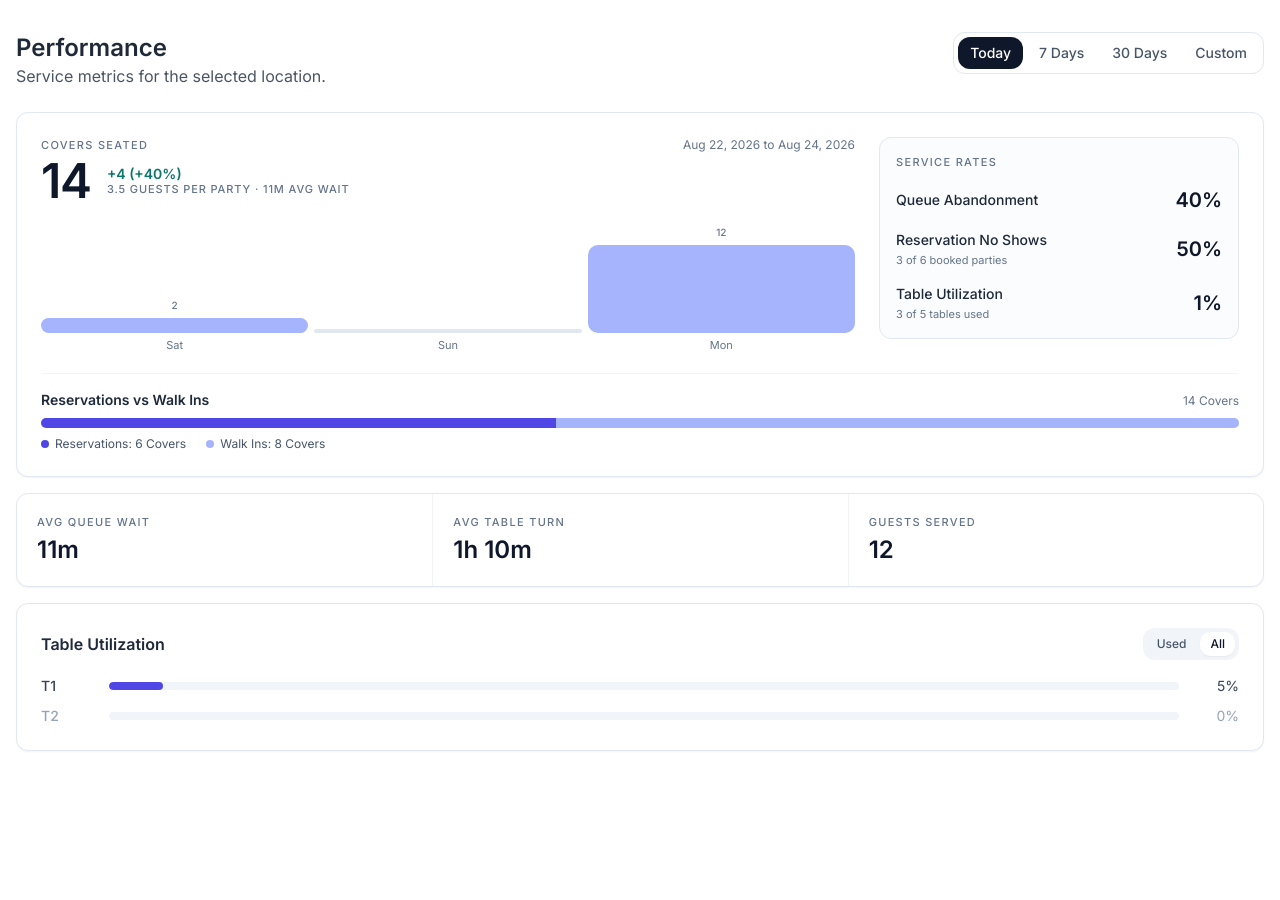
Test: the performance page › waits for both dates before asking for a custom range
Expected: the text "14" is shown, [41,157,91,205]
Click the button with test id "perf-preset-custom": (1221, 53) [1183,37,1259,69]
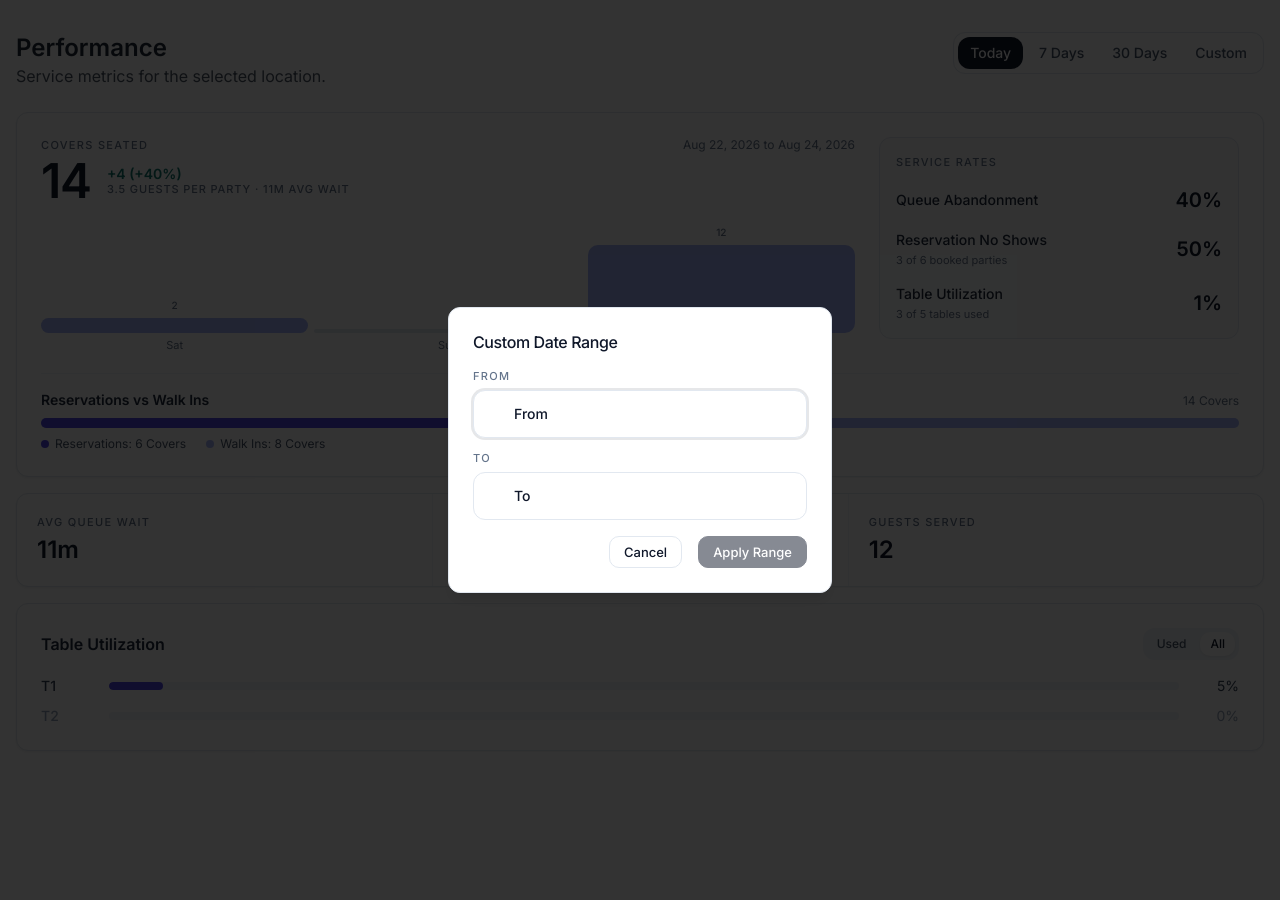
Now the dialog with test id "perf-custom-dialog" is shown, box [448,307,832,593]
